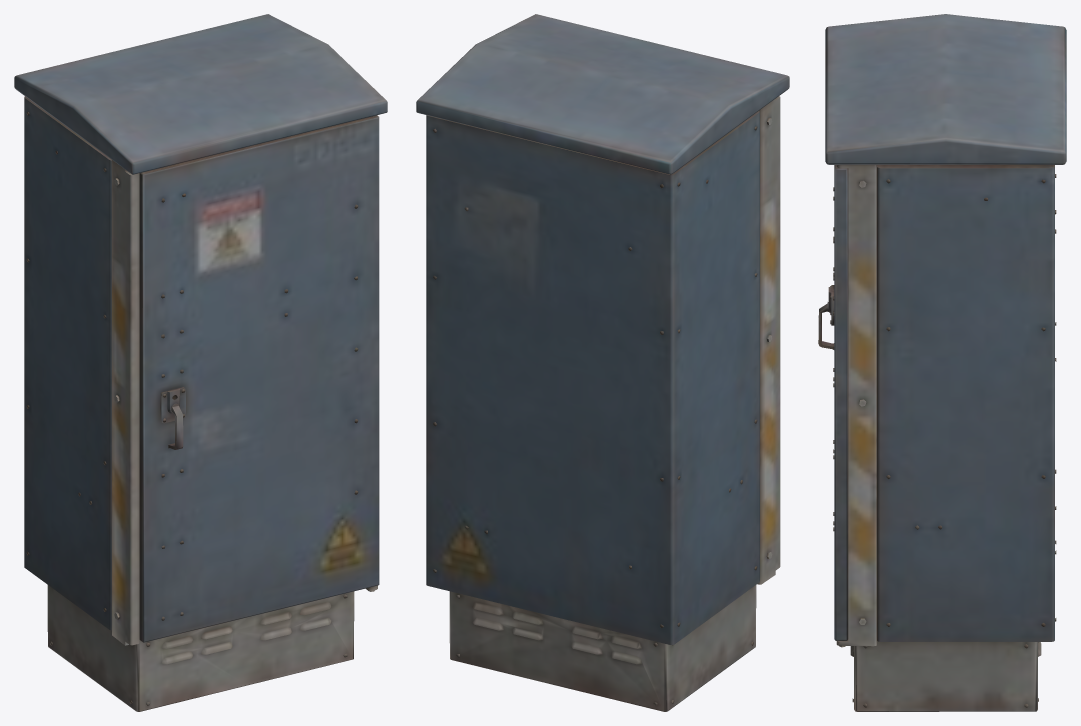
File: utility_box_01.gltf
3 renders of one model, left to right at view 1: azimuth 30°, elevation 25°; view 2: azimuth 150°, elevation 25°; view 3: azimuth 270°, elevation 25°, orthographic.
Visible parts, largest first — view 1: utility_box_01_box; view 2: utility_box_01_box; view 3: utility_box_01_box.
Part boxes in pixels (x1,y1,x2,y2): utility_box_01_box: (14, 14, 387, 711); utility_box_01_box: (416, 14, 789, 711); utility_box_01_box: (818, 14, 1066, 711).
Bounding box in the file's own units: 0.52 × 1.12 × 0.4319.
Materials: 1 (1 with a texture image).
